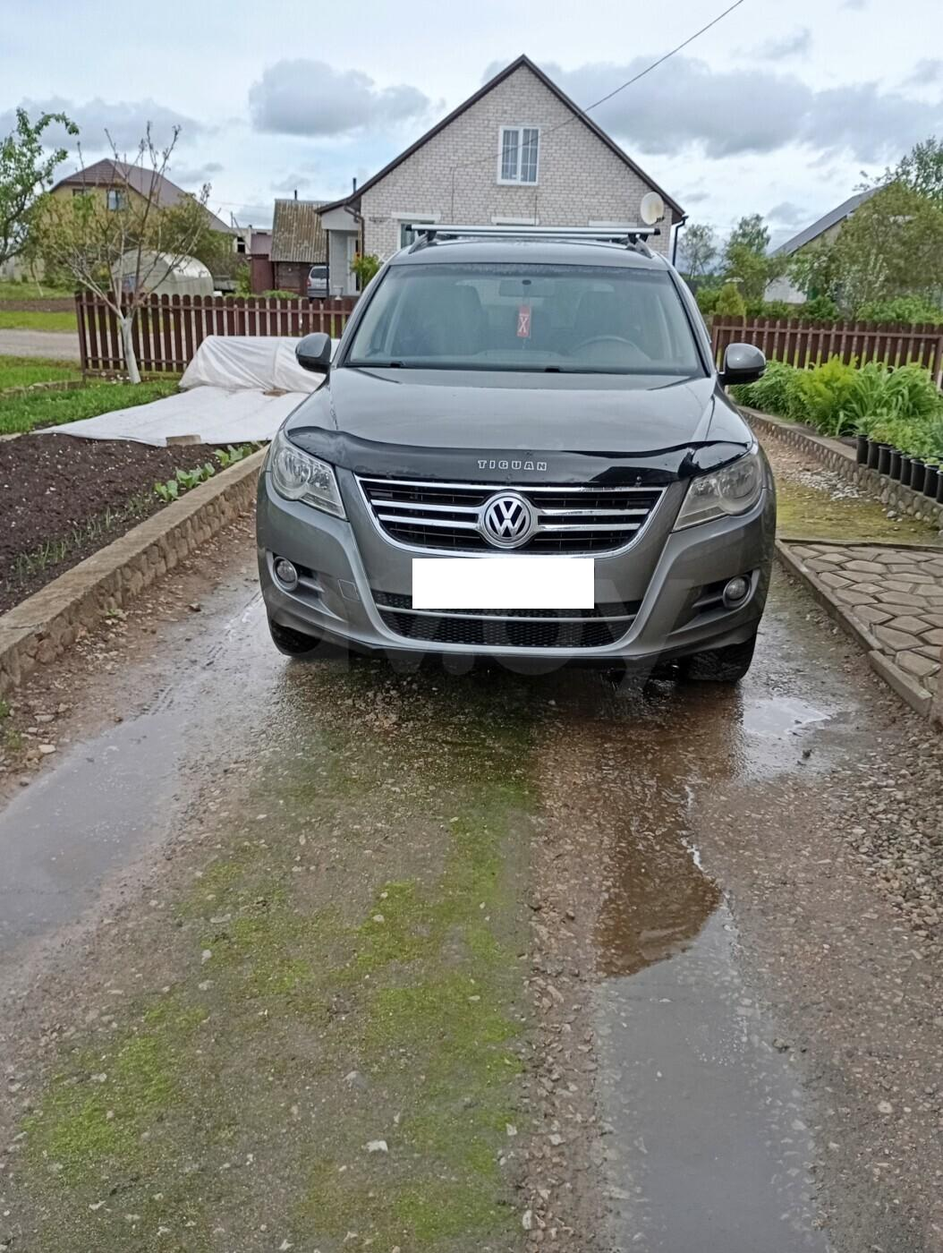Tiguan_2007-2011: (258, 227, 771, 702)
